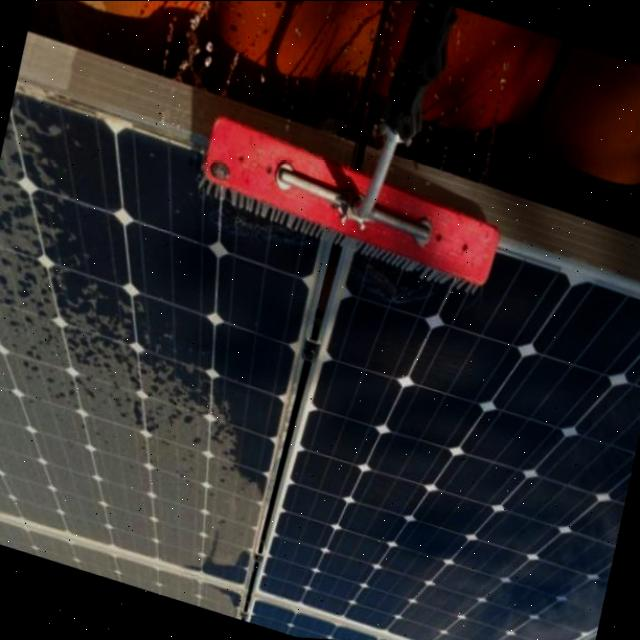Surface Contaminant: (0, 103, 267, 576)
